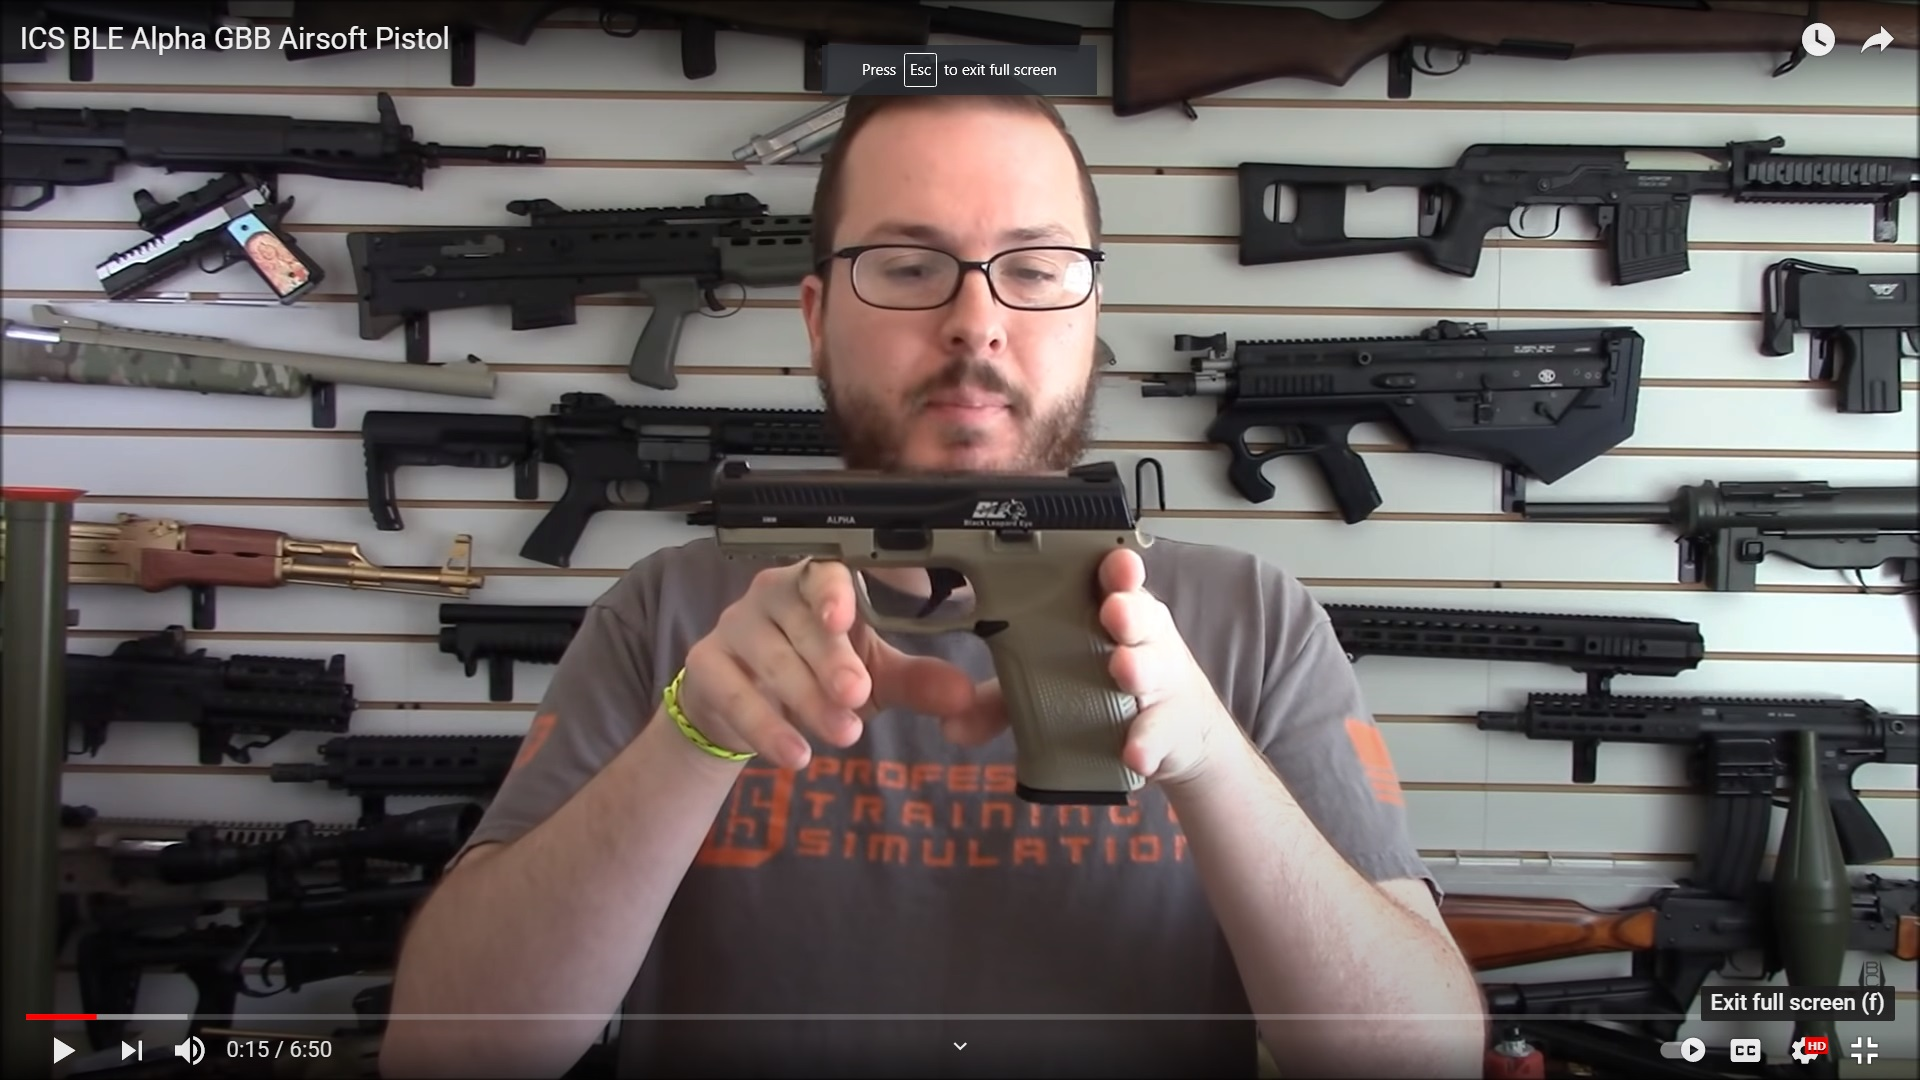asg_ics_ble_xae: (707, 454, 1156, 795)
